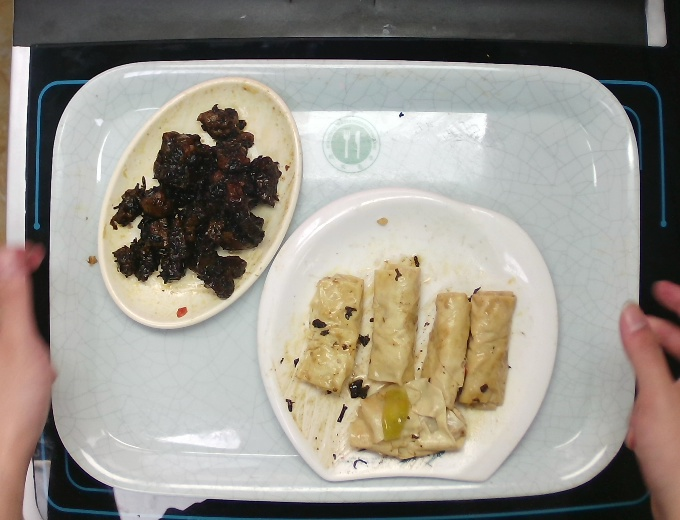JYsf-Mian_Pan: (251, 183, 566, 491)
JYsf-Tuo_Yuan_Wan: (91, 73, 306, 333)
